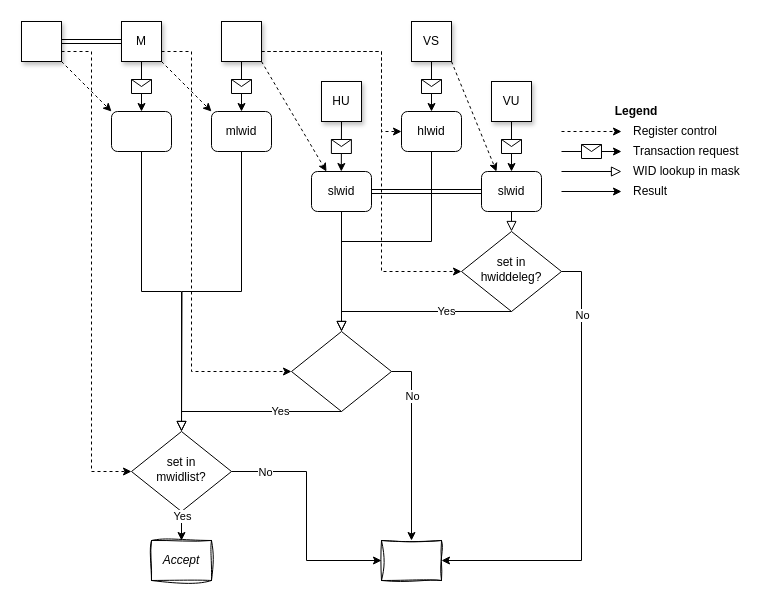
This 779x598 diagram has some shape labels left out. The shapes that lost their labels are listed below. From the top down, each one's centre as x and y in pixels, then its label:
[42,42]: RoT
[242,42]: HS
[141,131]: mwid
[341,371]: set in mwiddeleg?
[411,560]: Reject
